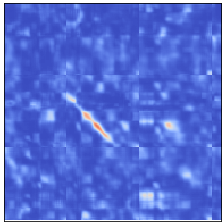action_path: (64, 75, 139, 149)
